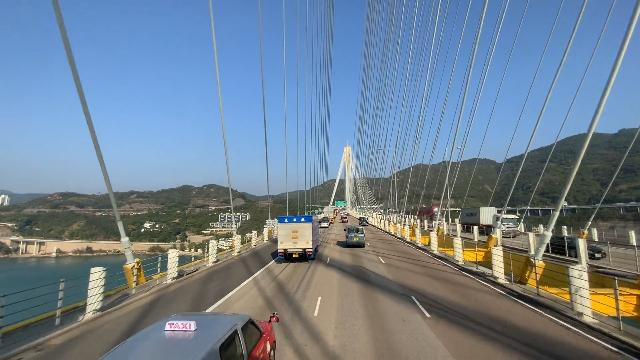car: (93, 303, 291, 360), (544, 231, 608, 260), (321, 220, 329, 229), (341, 217, 349, 223)
truck: (273, 214, 321, 262), (458, 204, 522, 240), (323, 206, 335, 224), (358, 217, 369, 227)
van: (342, 223, 369, 251)
